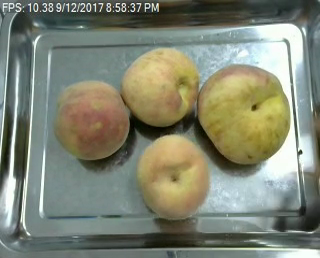Peach: (199, 64, 293, 165), (120, 45, 199, 128), (136, 134, 212, 220), (53, 79, 129, 161)
